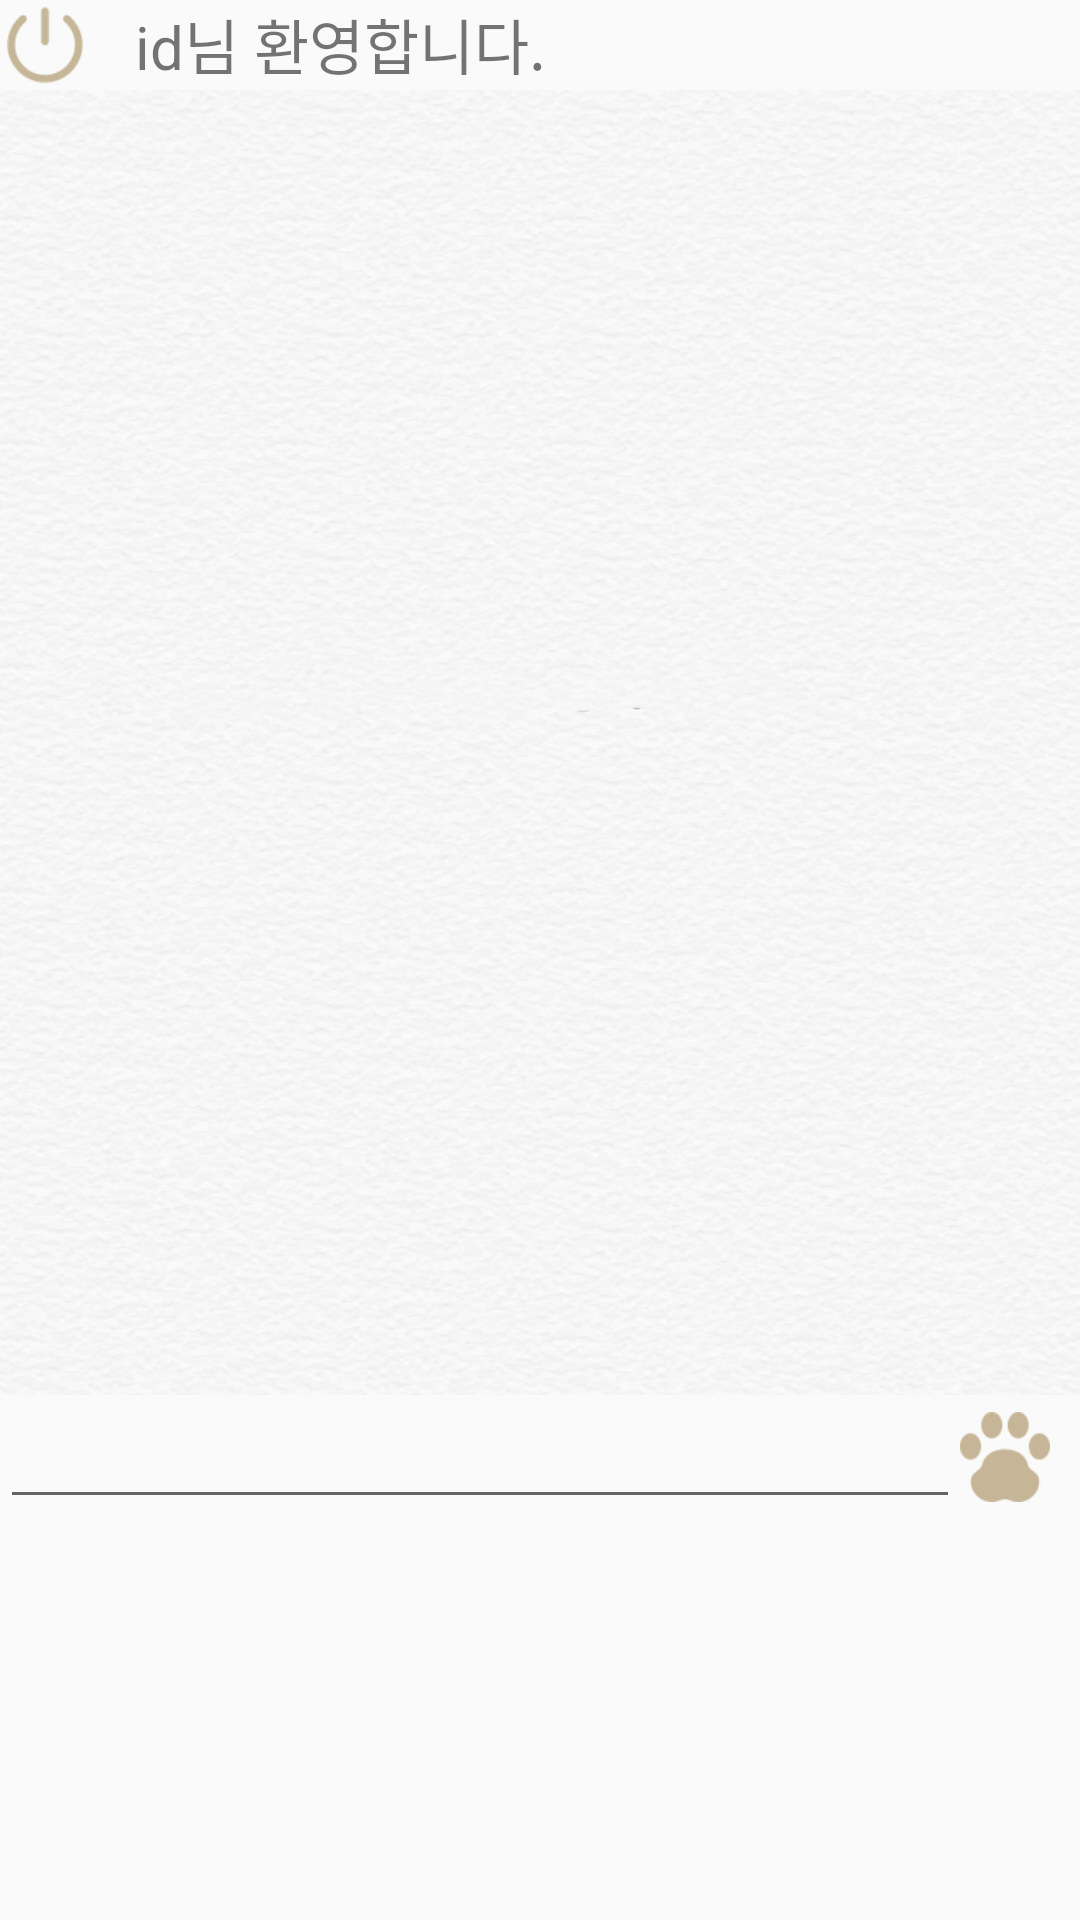

Point at icon controls on the screen. Image size 1080 × 1920, points as (x,y).
pawprint: (1005,1457)
